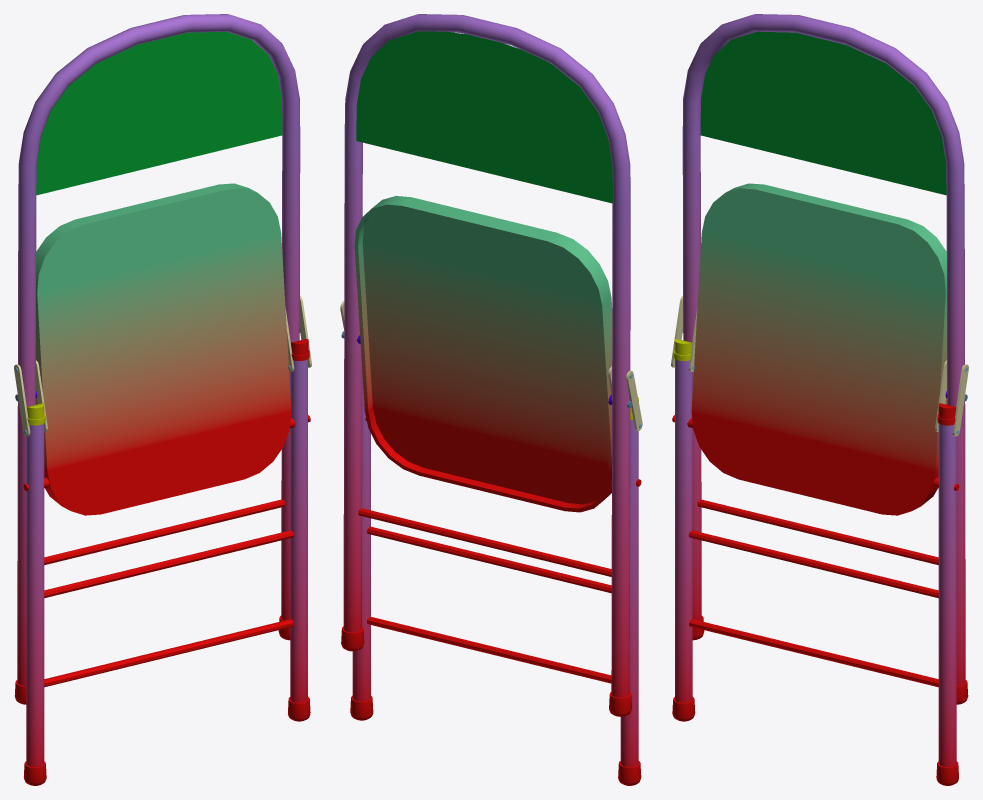
File: Attic_FoldingChair_01_LP.glb
The picture shows the model from 3 angles, left to right: view 1: azimuth 30°, elevation 25°; view 2: azimuth 150°, elevation 25°; view 3: azimuth 330°, elevation 25°; orthographic projection.
Parts seen in each view (by area): view 1: Attic_FoldingChair_01_LP; view 2: Attic_FoldingChair_01_LP; view 3: Attic_FoldingChair_01_LP.
Part boxes in pixels (x1=…): Attic_FoldingChair_01_LP: x1=14, y1=14, x2=311, y2=785; Attic_FoldingChair_01_LP: x1=340, y1=14, x2=642, y2=785; Attic_FoldingChair_01_LP: x1=671, y1=14, x2=968, y2=785.
Size of the model in its own units: 0.6007 by 1.46 by 0.0952.
